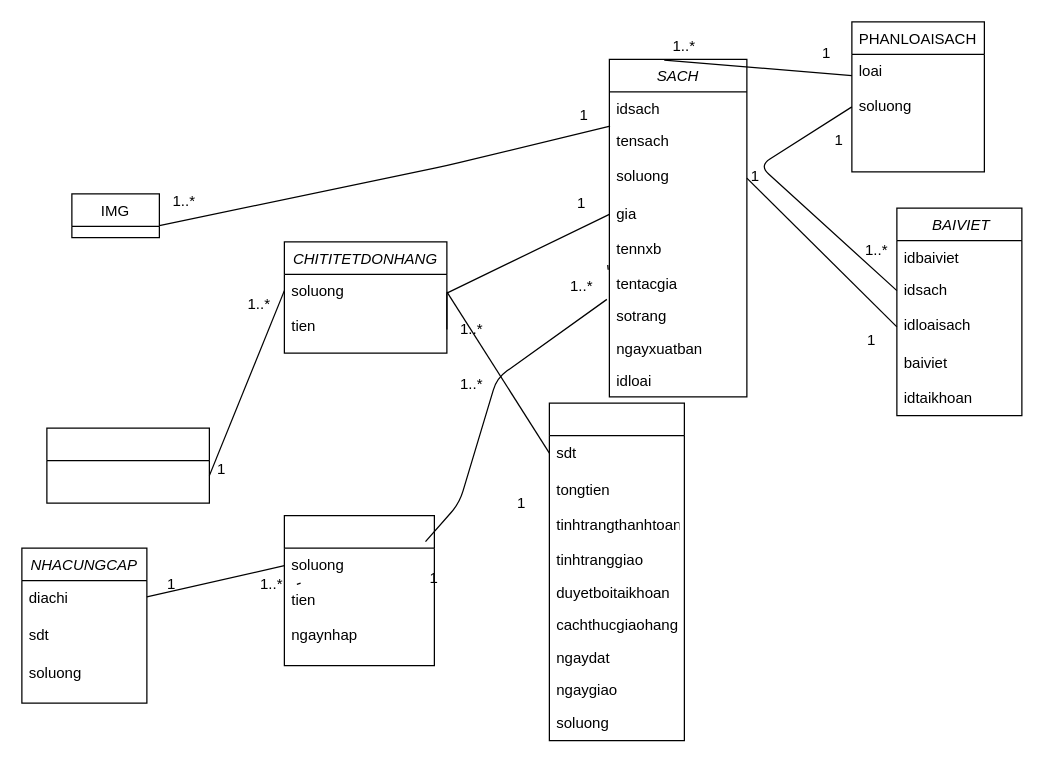
Image size: 1044x764. Some labels were removed from this diagram. Each missing label, with the box of its shape:
DONHANG: (548, 402, 684, 741)
GIOHANG: (46, 427, 209, 503)
PHIEUNHAPSACH: (283, 514, 434, 666)
